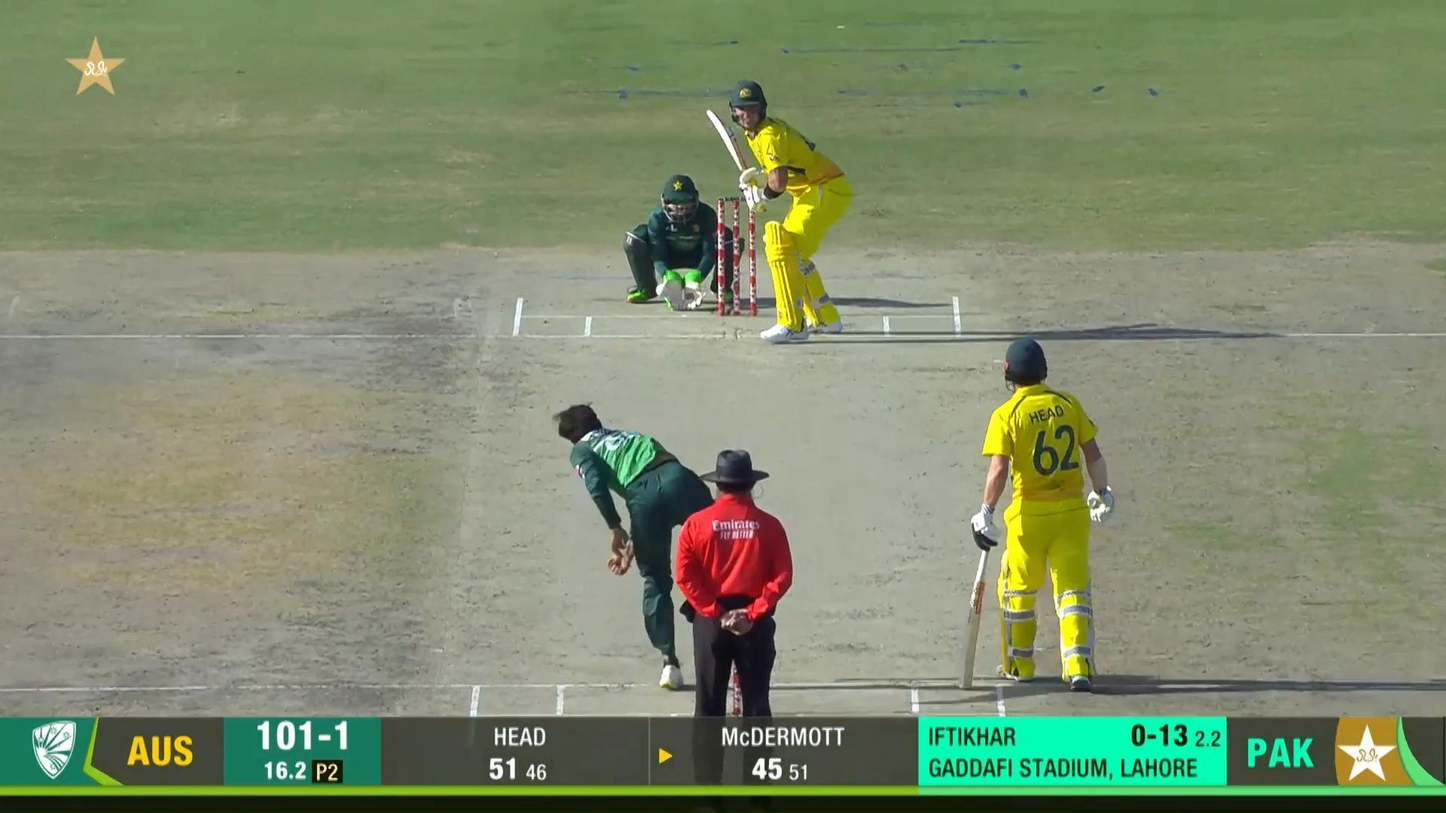BM 1: (706, 78, 852, 343)
BO: (552, 402, 716, 687)
